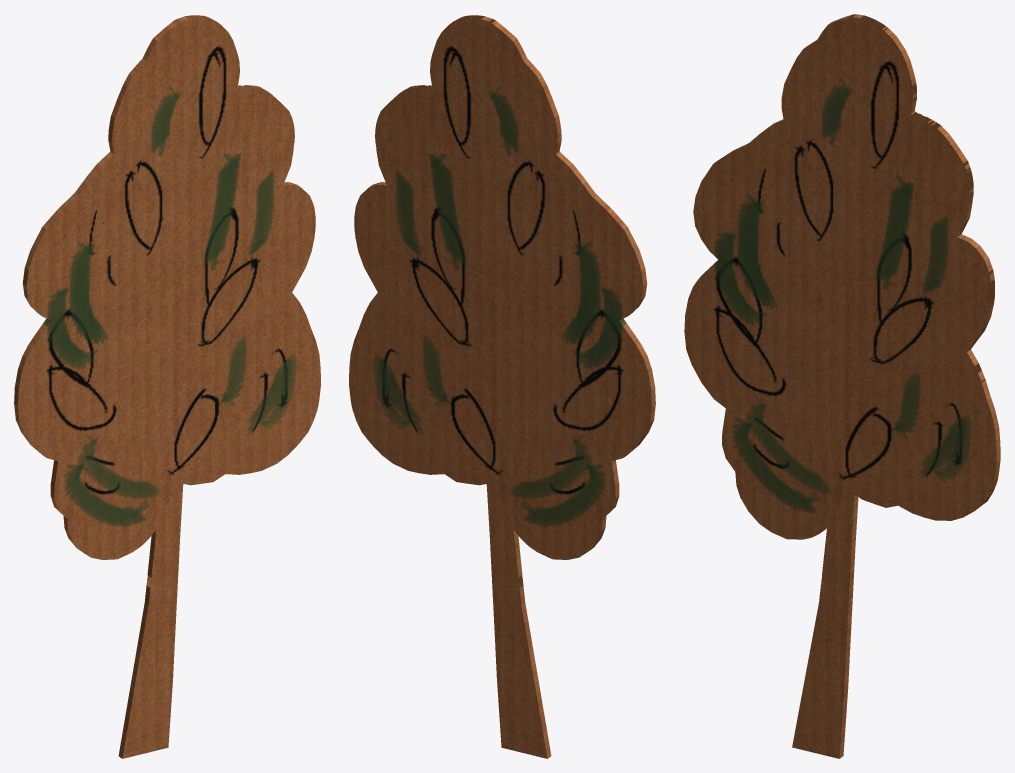
File: tree_1.FBX
3 views of the same model, side by side, from view 1: azimuth 30°, elevation 25°; view 2: azimuth 150°, elevation 25°; view 3: azimuth 330°, elevation 25° (orthographic). The views are drawn at different scales.
Visible parts, largest first — view 1: tree_1; view 2: tree_1; view 3: tree_1.
Part boxes in pixels (left/top/right/bottom): tree_1: left=14, top=15, right=320, bottom=758; tree_1: left=349, top=15, right=655, bottom=758; tree_1: left=684, top=14, right=1000, bottom=758.
Bounding box in the file's own units: 316 × 722 × 7.
Materials: 1 (1 with a texture image).
